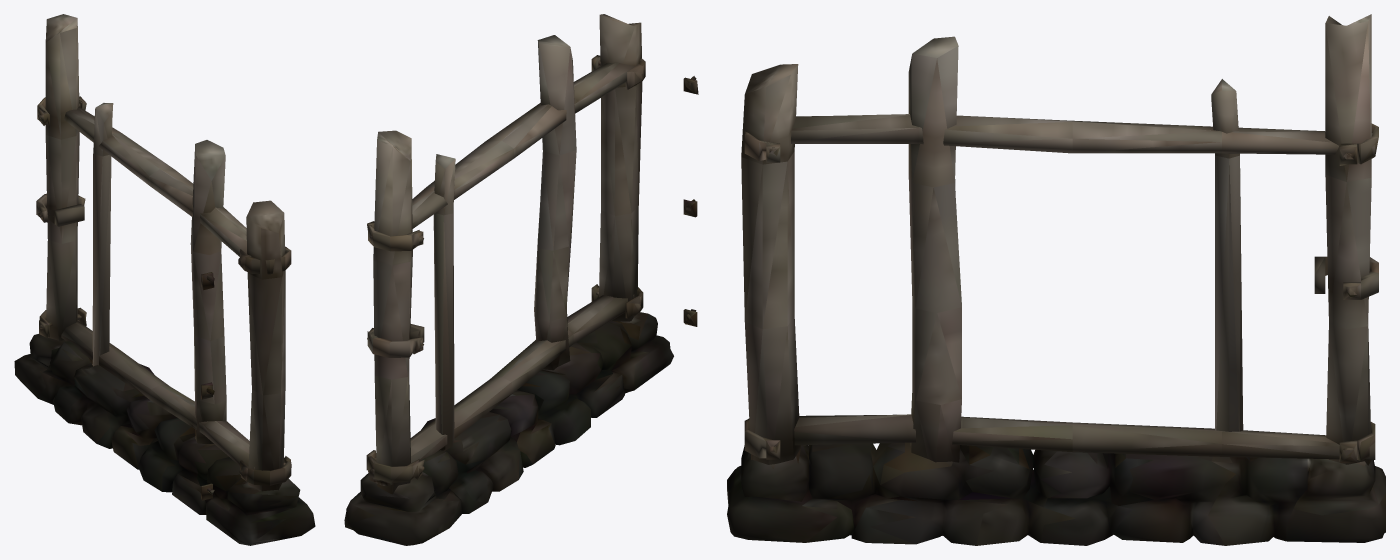
The model's file is fence-run-b.glb.
3 views of the same model, side by side, from view 1: azimuth 30°, elevation 25°; view 2: azimuth 150°, elevation 25°; view 3: azimuth 270°, elevation 25° (orthographic). The views are drawn at different scales.
Parts seen in each view (by area): view 1: tripo_part_13; view 2: tripo_part_13; view 3: tripo_part_13.
Boxes of the visible parts, x1,y1,x2,y2 form: tripo_part_13: [14, 14, 315, 545]; tripo_part_13: [344, 14, 698, 545]; tripo_part_13: [727, 14, 1385, 545].
Bounding box in the file's own units: 0.0959 × 0.3072 × 0.362.
1 material, 1 textured.
